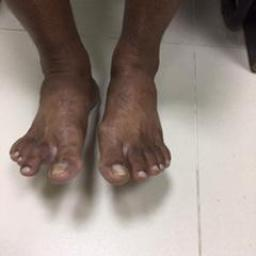Front View -Both Feet-: (3, 42, 184, 204)
